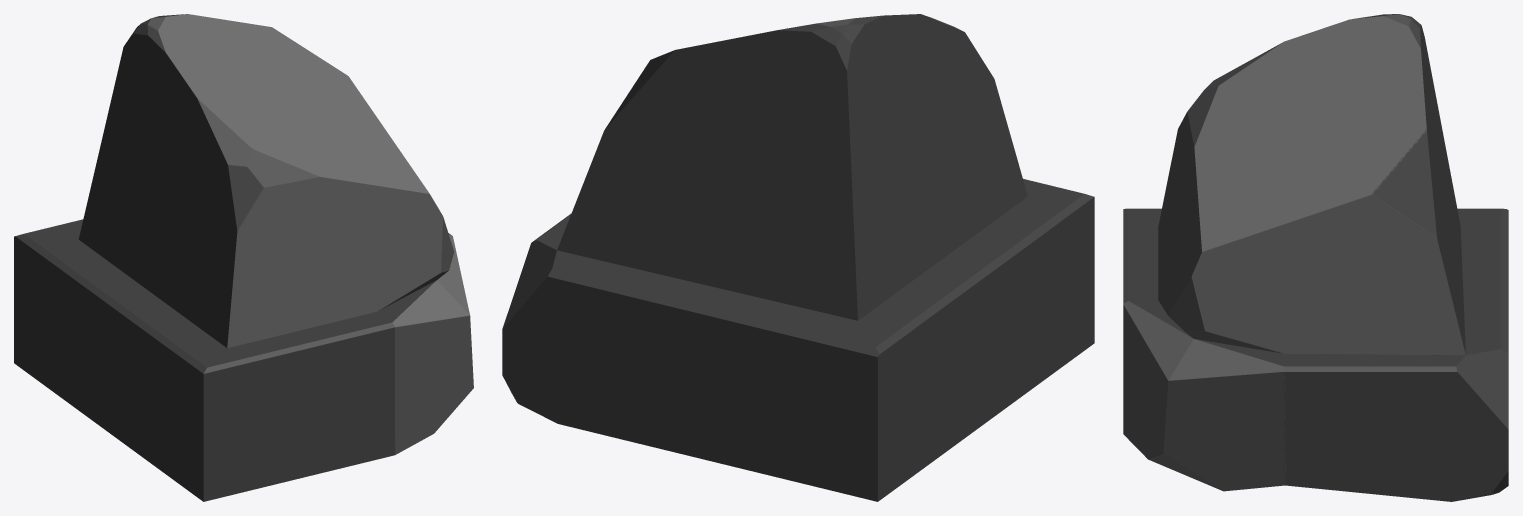
Rendered from kaya1.fbx.
The picture shows the model from 3 angles, left to right: view 1: azimuth 30°, elevation 25°; view 2: azimuth 150°, elevation 25°; view 3: azimuth 270°, elevation 25°; orthographic projection. The views are drawn at different scales.
Parts seen in each view (by area): view 1: kaya1; view 2: kaya1; view 3: kaya1.
Part boxes in pixels (x1,y1,x2,y2): kaya1: [14, 14, 473, 501]; kaya1: [502, 14, 1094, 501]; kaya1: [1123, 14, 1508, 501].
Size of the model in its own units: 63.94 by 66.71 by 63.94.
Materials: 1 (1 with a texture image).
